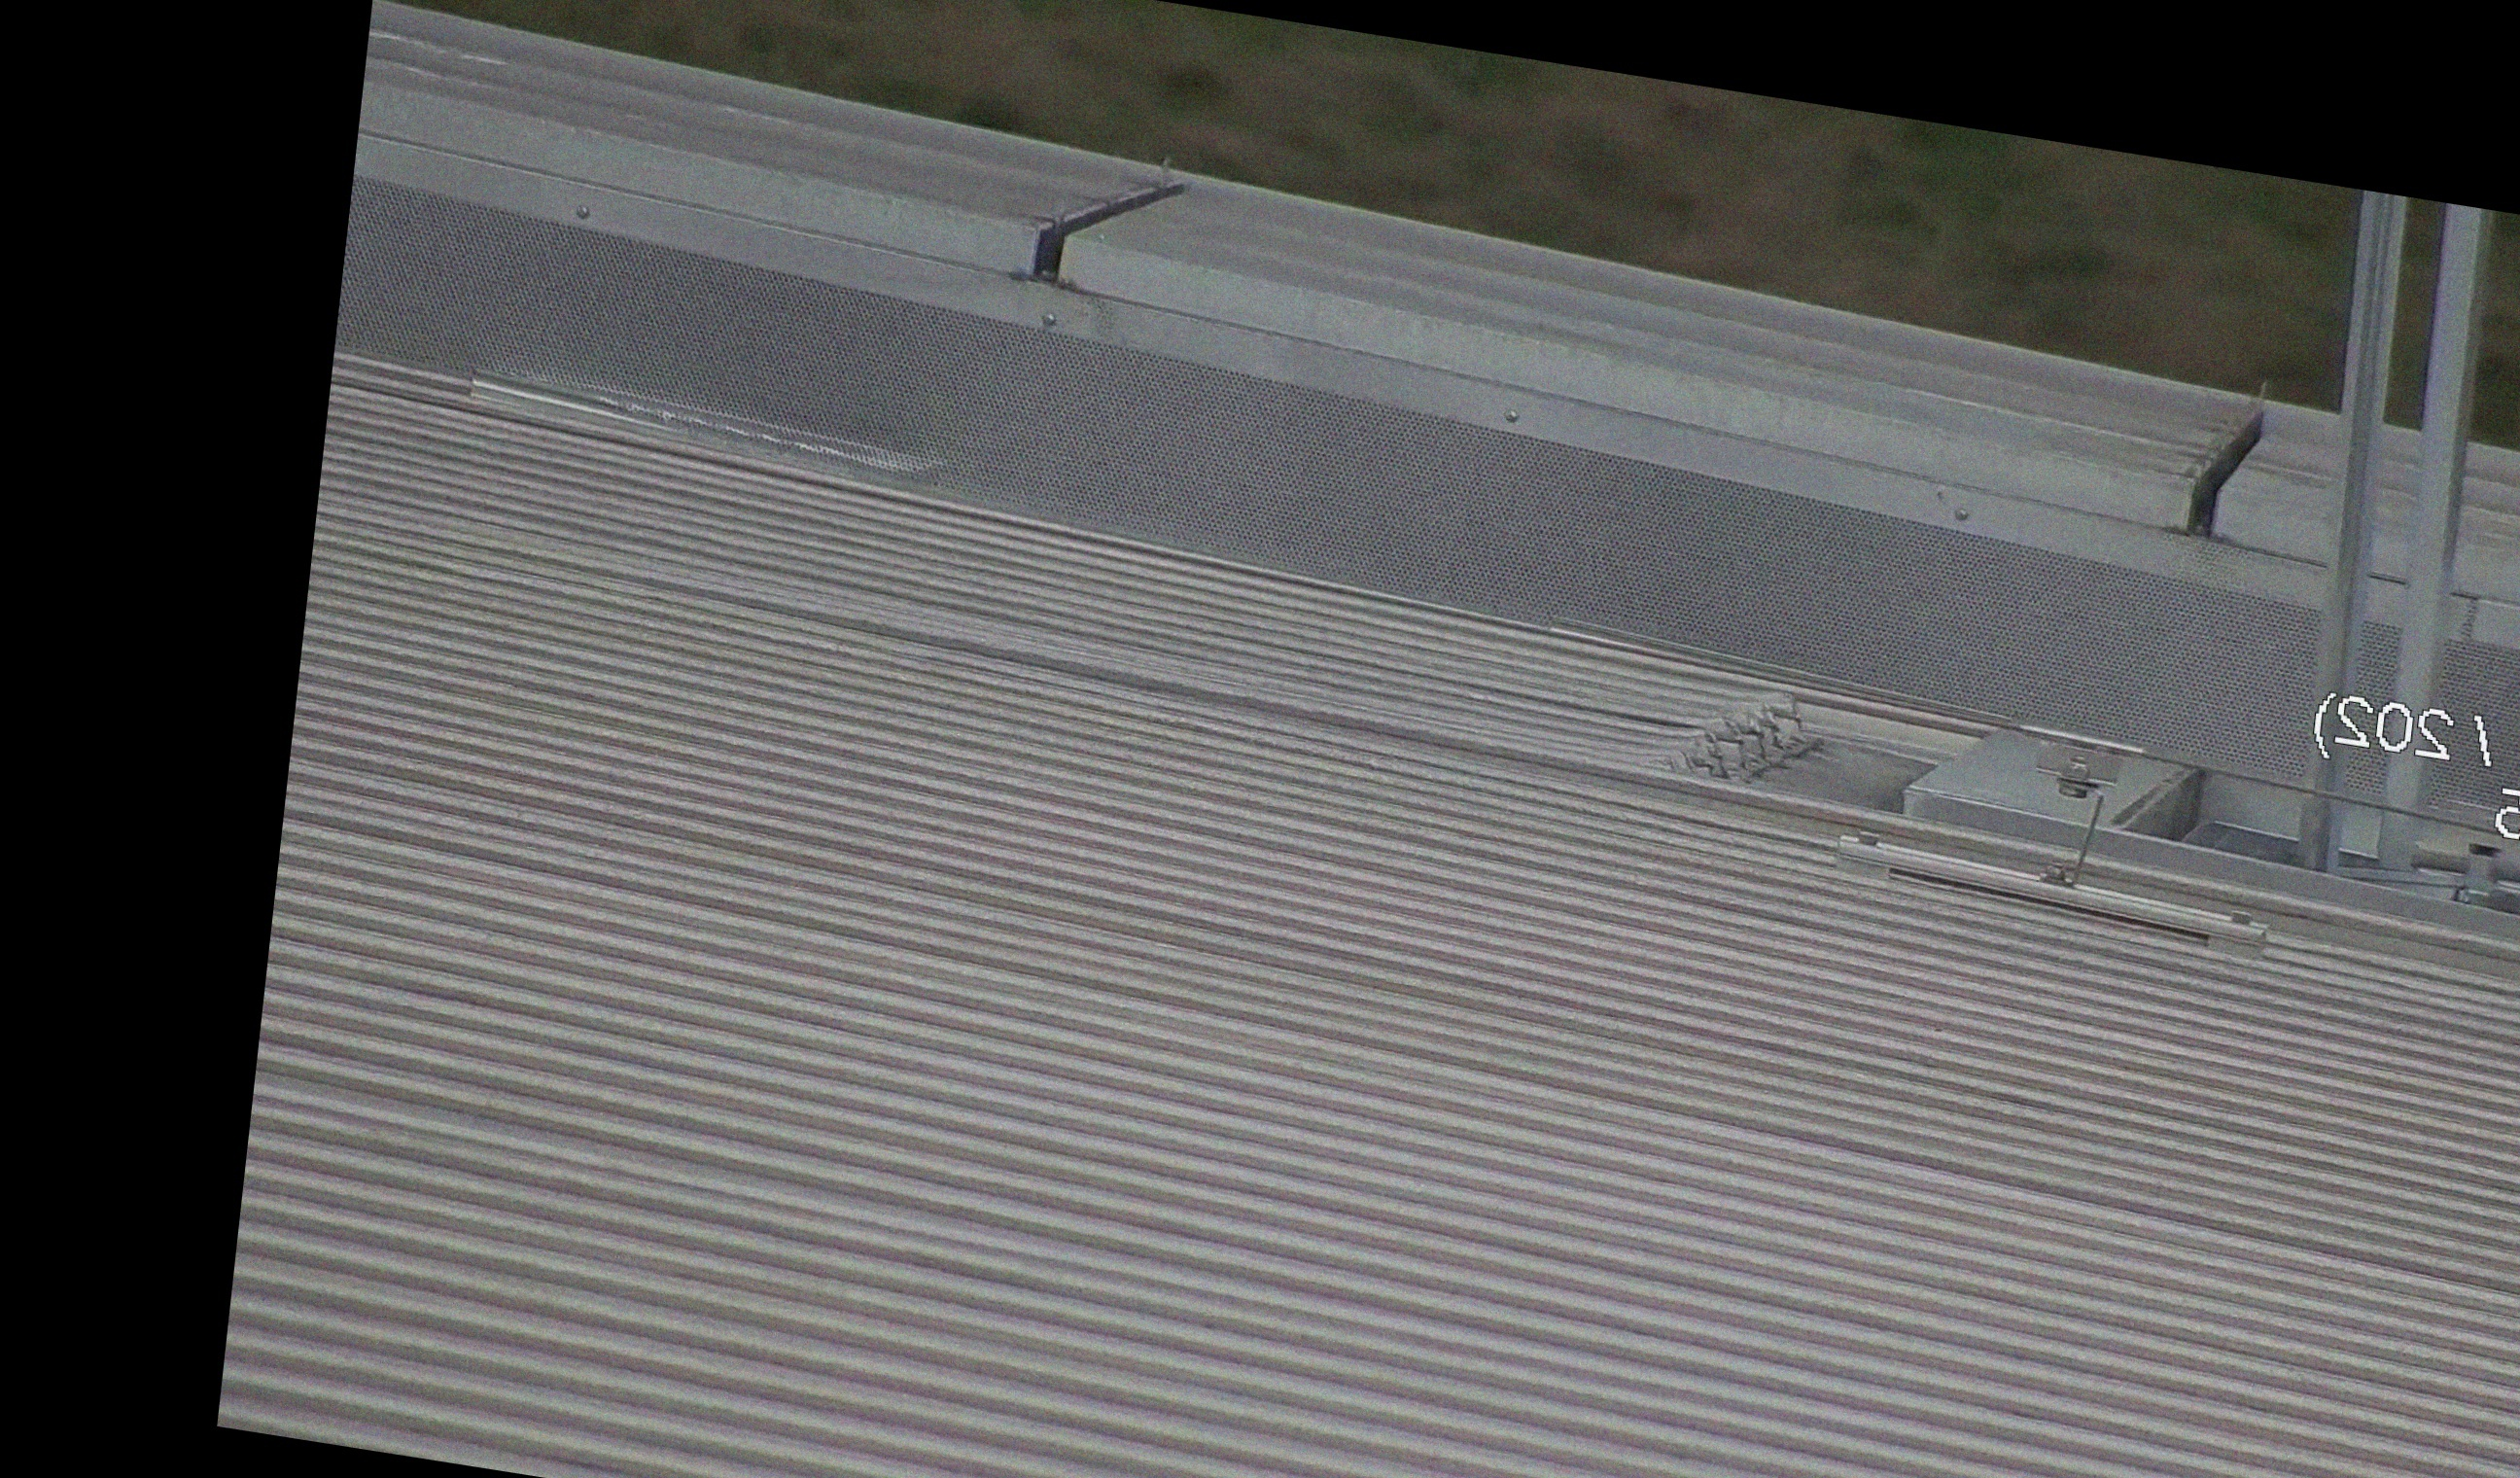Other: (2168, 368, 2304, 552)
